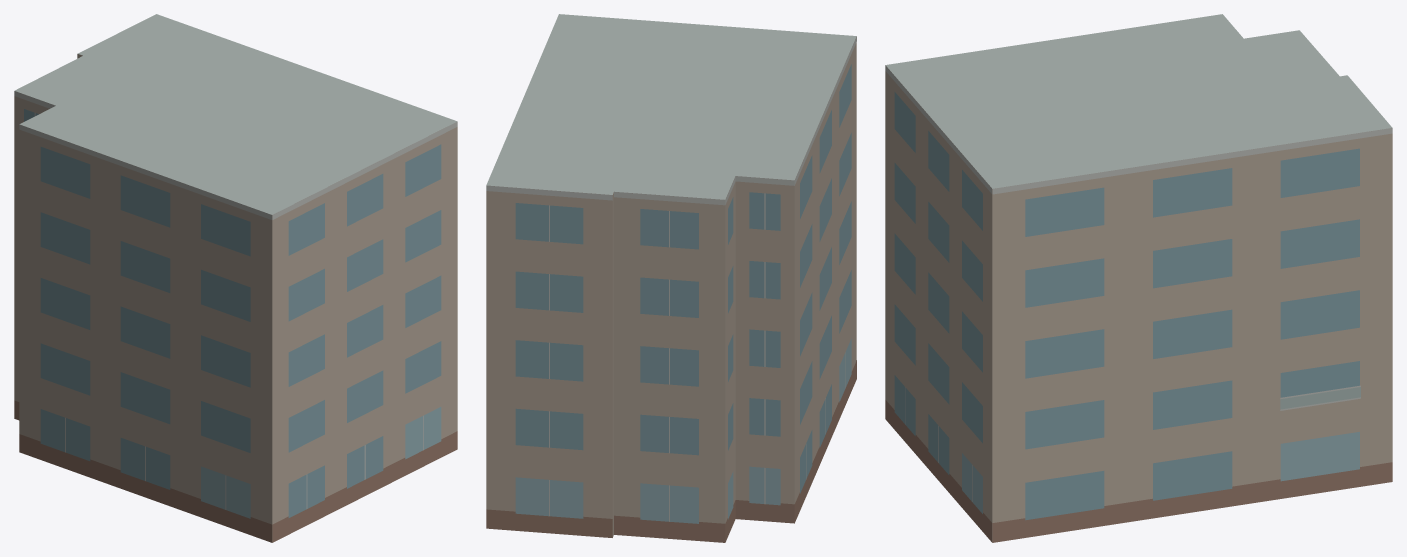
Rendered from survey-upis-32859552.glb.
The picture shows the model from 3 angles, left to right: view 1: azimuth 30°, elevation 25°; view 2: azimuth 150°, elevation 25°; view 3: azimuth 270°, elevation 25°; orthographic projection. The views are drawn at different scales.
Visible parts, largest first — view 1: survey-upis-32859552.tmp; view 2: survey-upis-32859552.tmp; view 3: survey-upis-32859552.tmp.
Part boxes in pixels (box(x1,y1,x2,y2)): survey-upis-32859552.tmp: box(14, 14, 457, 542); survey-upis-32859552.tmp: box(486, 14, 856, 542); survey-upis-32859552.tmp: box(885, 14, 1392, 542).
Size of the model in its own units: 16.16 by 15.25 by 19.81.
